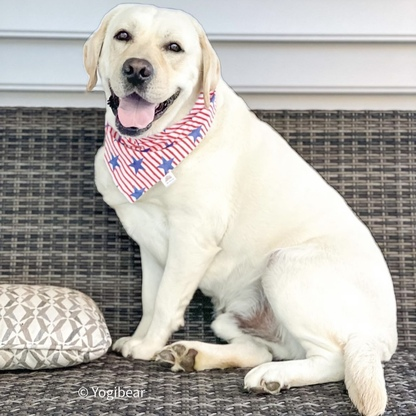labrado: (81, 1, 402, 415)
